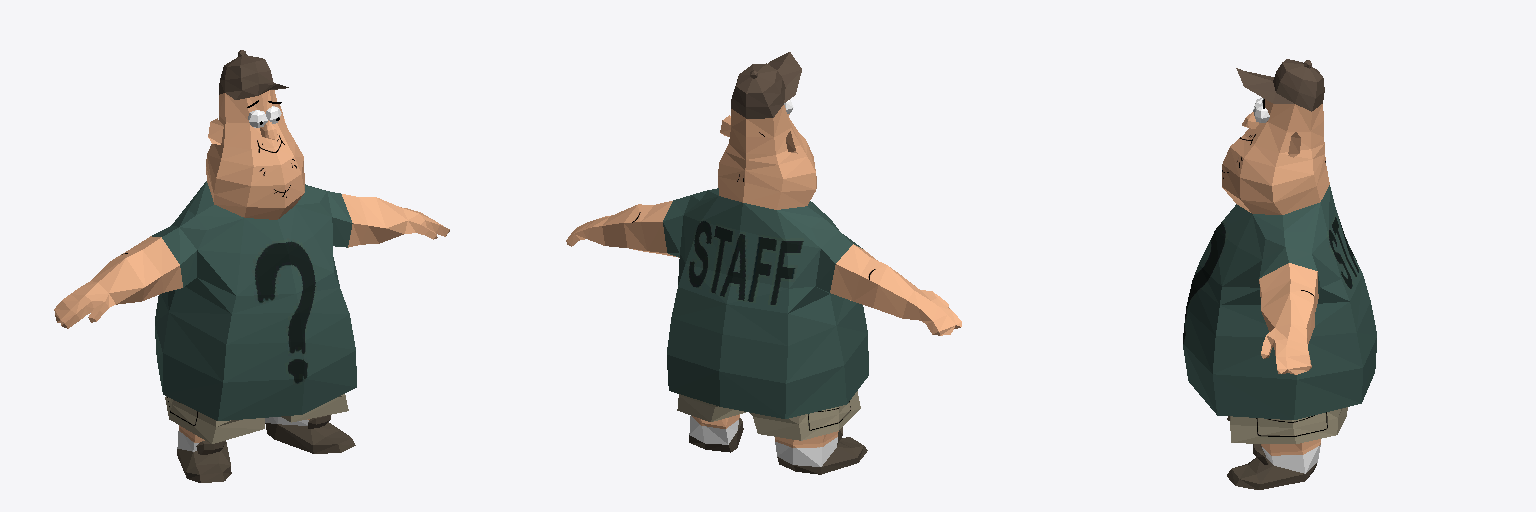
3 views of the same model, side by side, from view 1: azimuth 30°, elevation 25°; view 2: azimuth 150°, elevation 25°; view 3: azimuth 270°, elevation 25° (orthographic).
Visible parts, largest first — view 1: soos; view 2: soos; view 3: soos.
Part boxes in pixels (x1,y1,x2,y2): soos: (54,50,449,482); soos: (566,52,961,474); soos: (1183,59,1376,489).
Bounding box in the file's own units: 5.84 × 5.61 × 2.53.
1 materials, 1 textured.